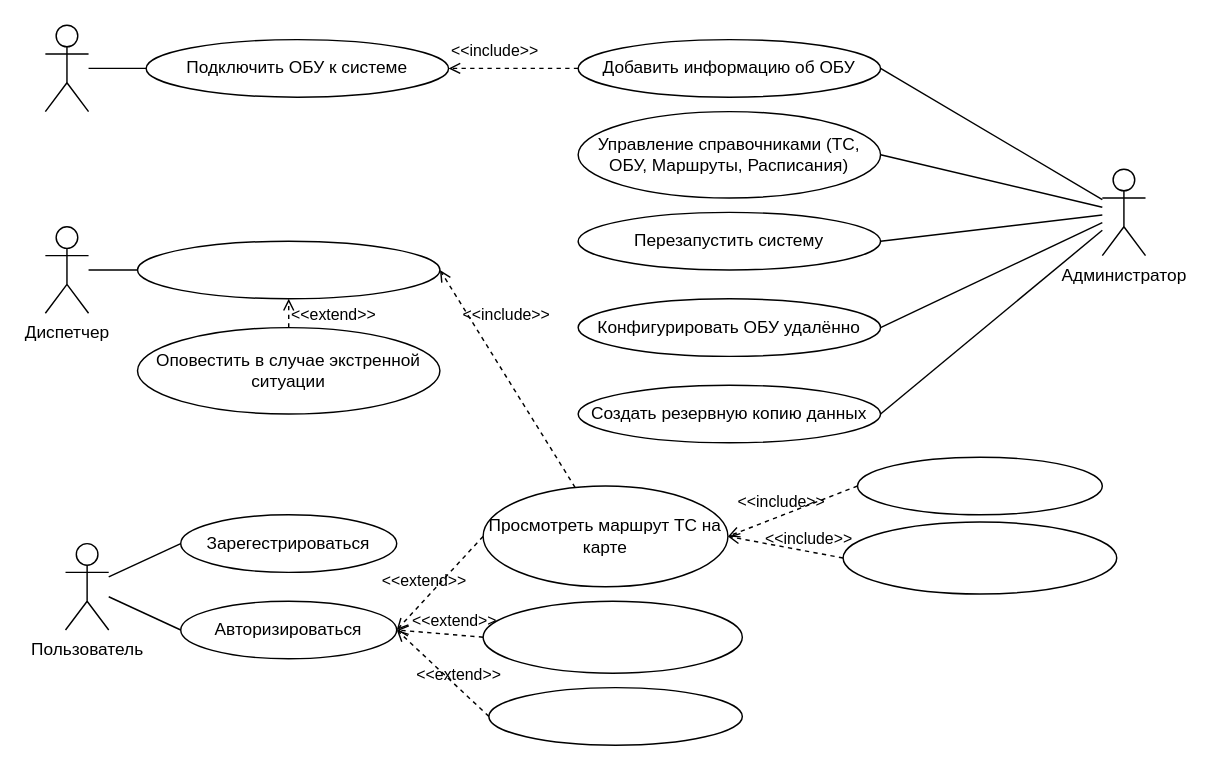
The diagram is 1211 pixels wide and 770 high, and some of its shapes have lost their labels. Here are the shapes that lost their labels. From the top down, the centre of each, then its label:
(x=66, y=68): Водитель
(x=288, y=269): Отслеживать движение ТС
(x=979, y=485): Получить ETA
(x=979, y=557): Получить информацию о загруженности ТС
(x=612, y=636): Просмотреть полное расписание ТС
(x=614, y=715): Получить уведомление
